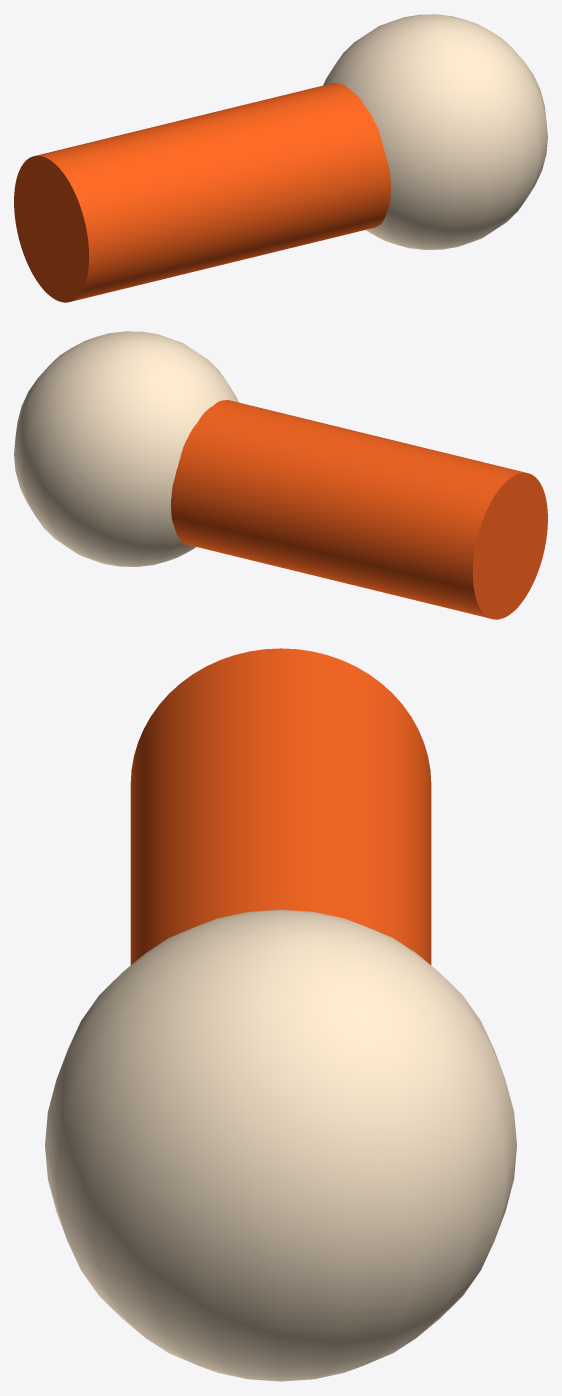
File: Ldhand.obj
The picture shows the model from 3 angles, top to bottom: view 1: azimuth 30°, elevation 25°; view 2: azimuth 150°, elevation 25°; view 3: azimuth 270°, elevation 25°; orthographic projection. The views are drawn at different scales.
Parts seen in each view (by area): view 1: pCylinder6, pSphere2; view 2: pCylinder6, pSphere2; view 3: pSphere2, pCylinder6.
Boxes of the visible parts, x1,y1,x2,y2 form: pCylinder6: (14,83,391,302); pSphere2: (323,14,547,249); pCylinder6: (170,400,547,619); pSphere2: (14,331,238,566); pSphere2: (45,909,516,1381); pCylinder6: (130,648,431,964).
Size of the model in its own units: 1.78 by 0.7558 by 0.7558.
